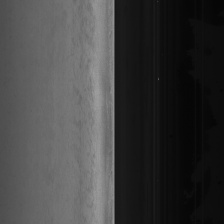silk_spot: (75, 84, 98, 166)
